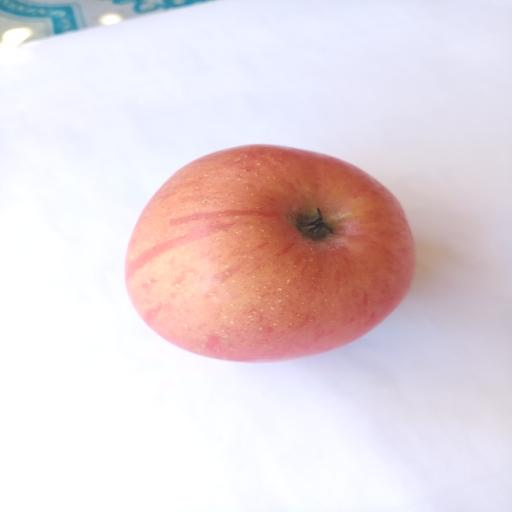apple-ripe: (110, 131, 428, 378)
